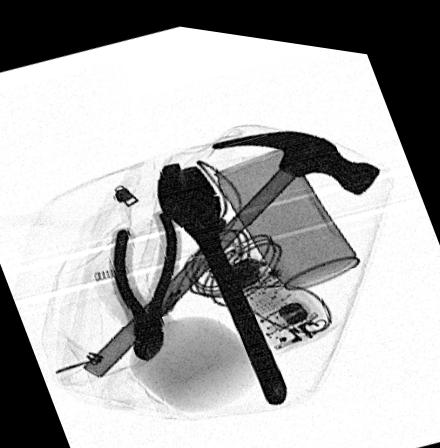Hammer: (80, 118, 380, 376)
Pliers: (108, 202, 180, 358)
Wrench: (154, 154, 284, 395)
